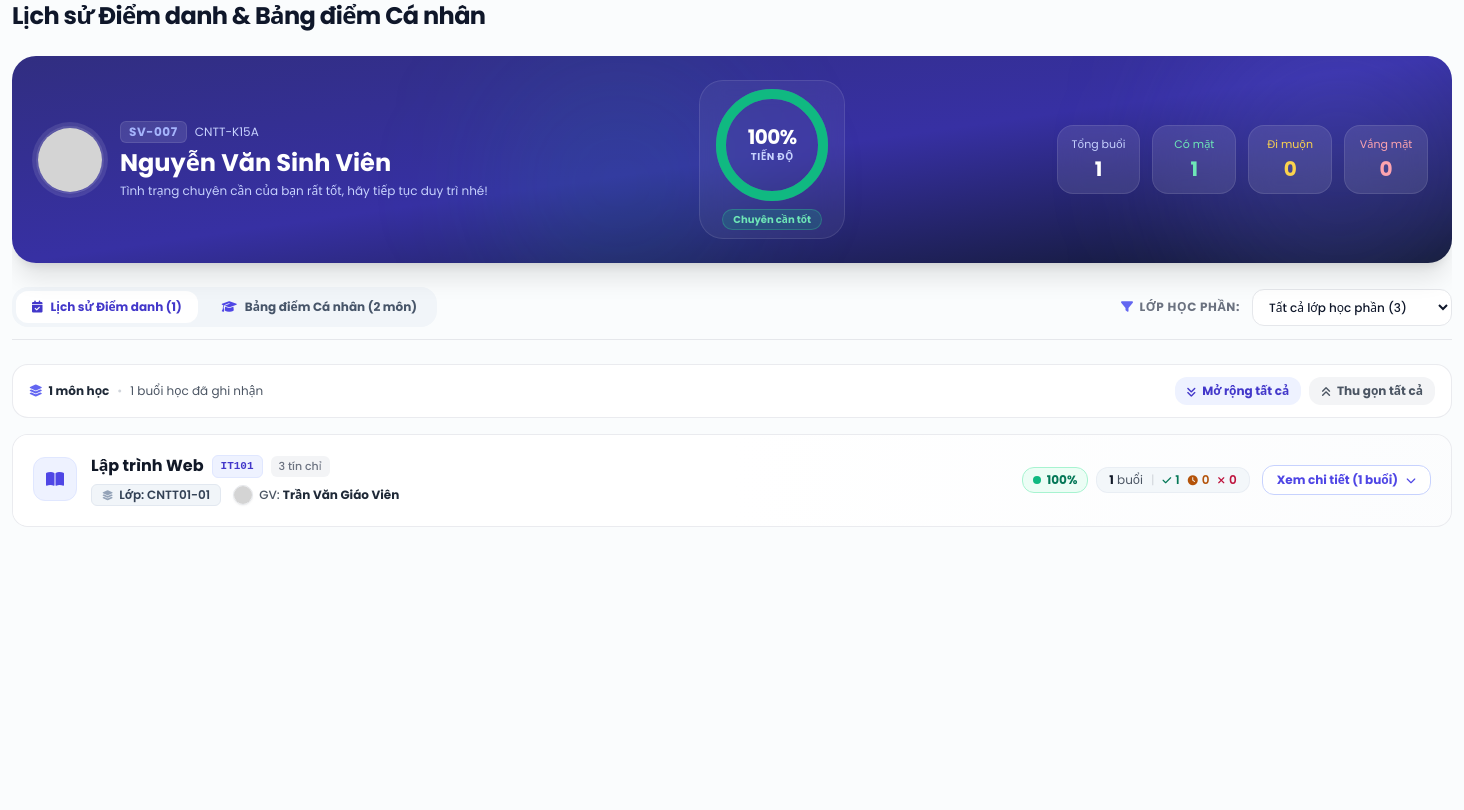
StudentAttendance (Attendance & Personal Gradebook) › sanitizes raw MongoDB ObjectIds and formats ca học and dates cleanly
This screenshot has width=1464, height=810.
Expand the card to view detailed sessions
Click the button "Xem chi tiết (1 buổi)" at [1346, 480], box [1262, 465, 1431, 495]
(page scrolled)
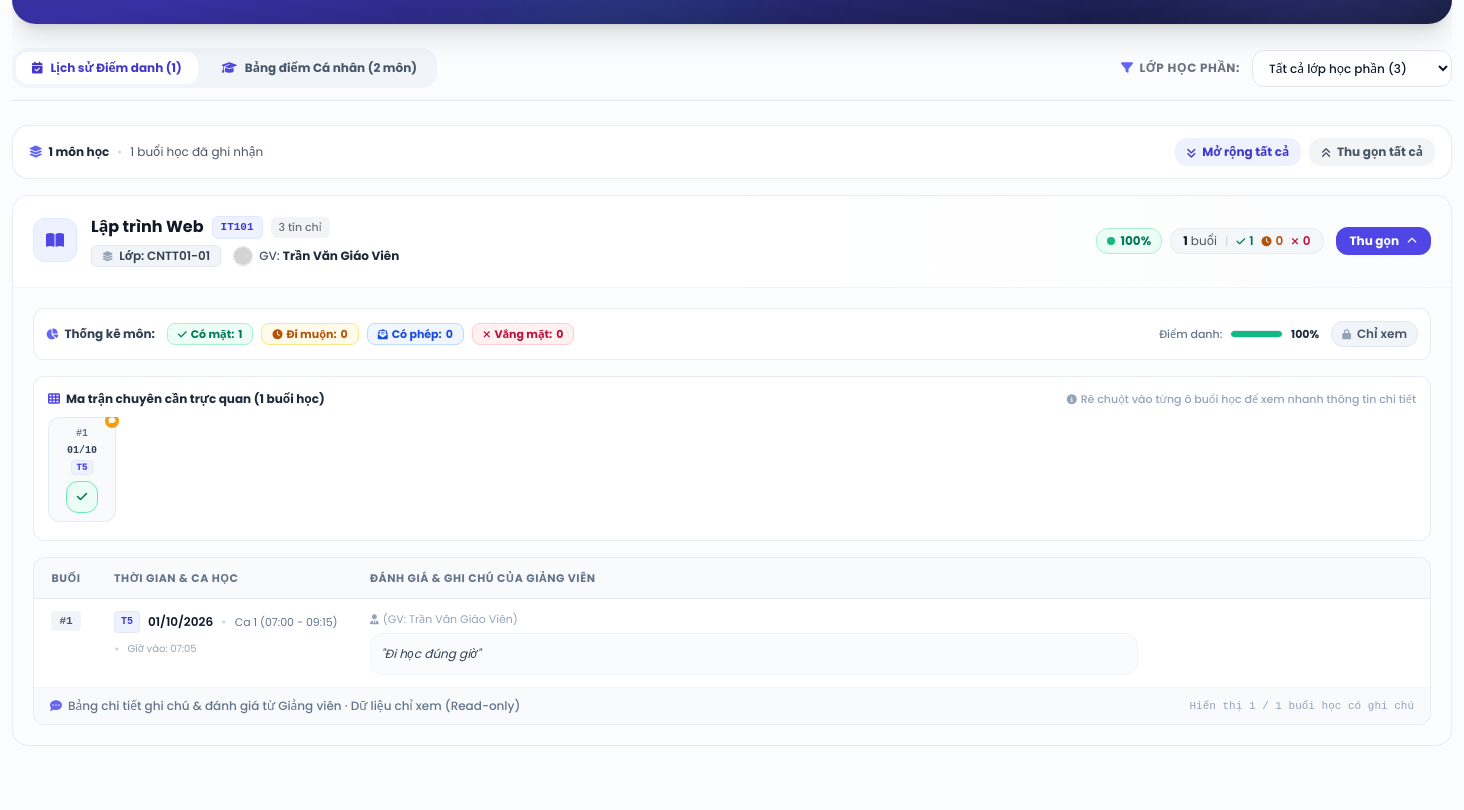
Expected: the text "Ca 1 (07:00 - 09:15)" is shown, [235, 614, 338, 630]
Expected: the text "01/10/2026" is shown, [148, 614, 213, 630]
Expected: the text "Giờ vào: 07:05" is shown, [128, 641, 197, 657]
